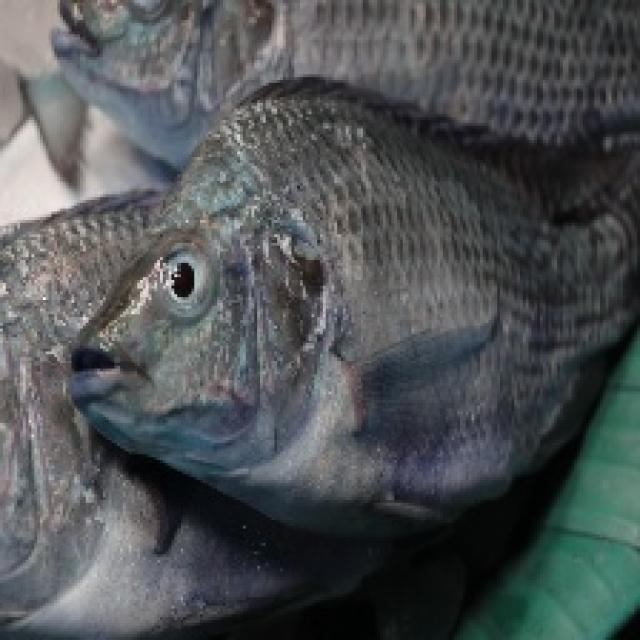Fresh: (62, 108, 640, 522)
